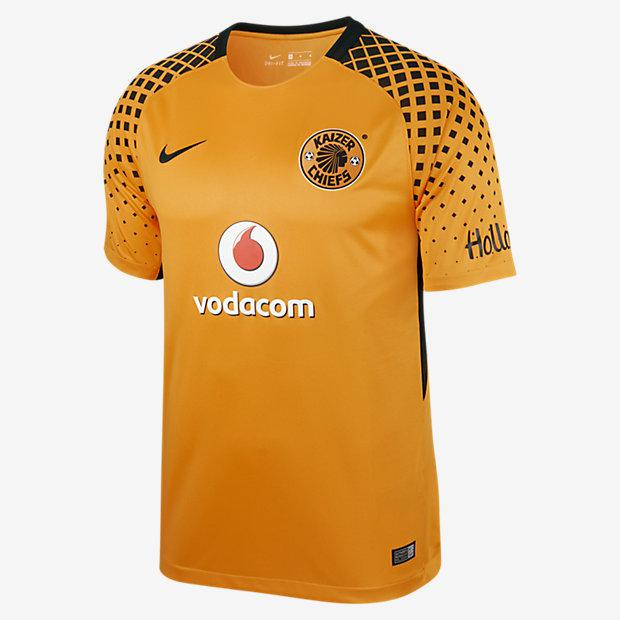teeshirt: (93, 11, 532, 599)
